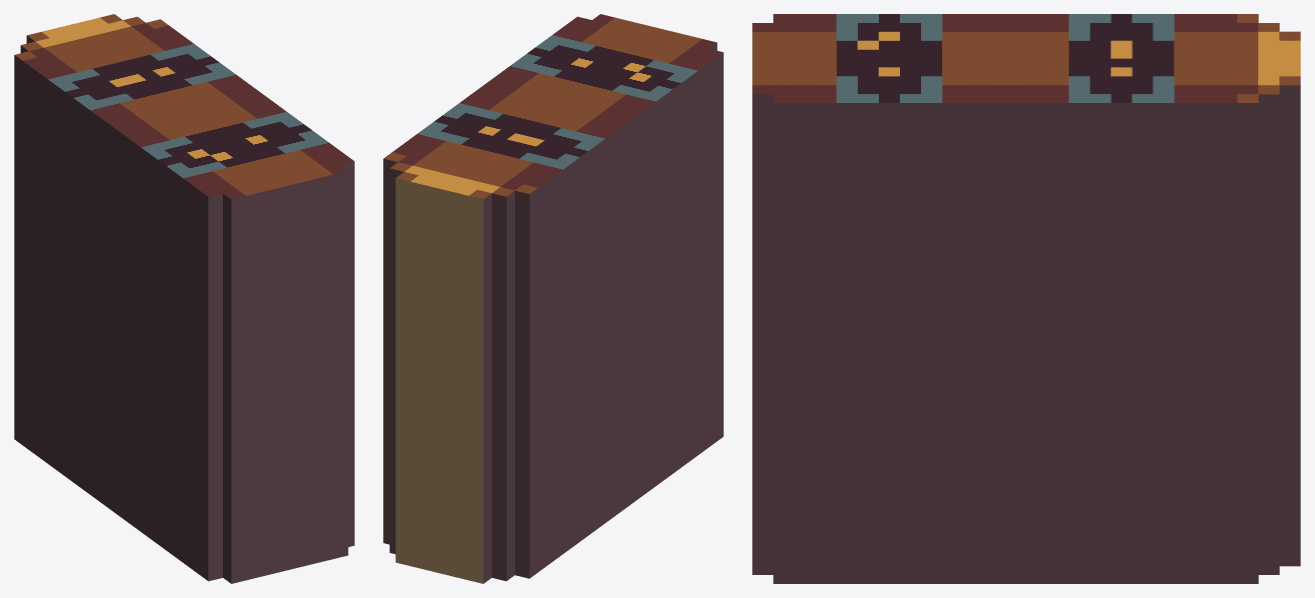
Rendered from book1-1.glb.
3 renders of one model, left to right at view 1: azimuth 30°, elevation 25°; view 2: azimuth 150°, elevation 25°; view 3: azimuth 270°, elevation 25°, orthographic. The views are drawn at different scales.
Visible parts, largest first — view 1: book1-1-col; view 2: book1-1-col; view 3: book1-1-col.
Part boxes in pixels (left/top/right/bottom): book1-1-col: left=14, top=14, right=354, bottom=583; book1-1-col: left=383, top=14, right=723, bottom=583; book1-1-col: left=752, top=14, right=1300, bottom=583.
Bounding box in the file's own units: 0.3125 × 0.786 × 0.8125.
Materials: 3 (1 with a texture image).
